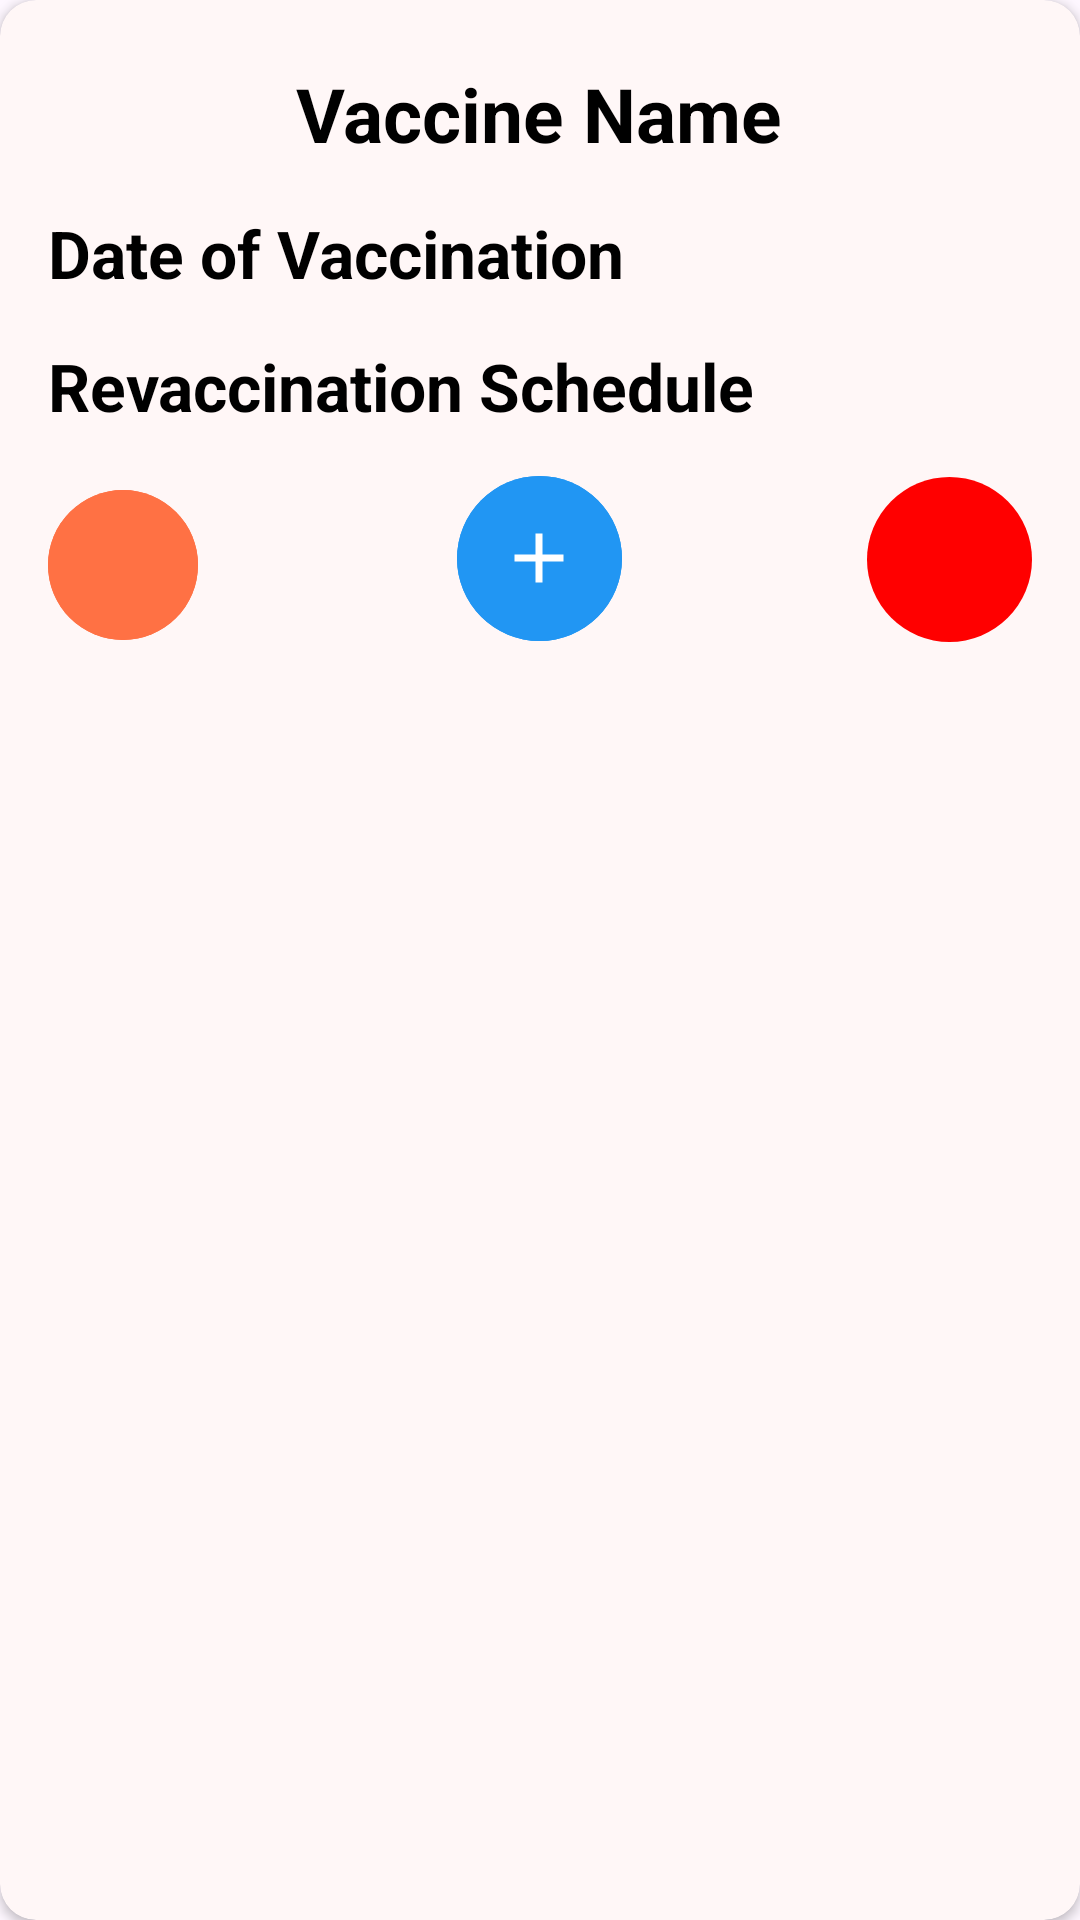

Point at icon controls on the screen. Image size 1080px x 1920px, points as [x,y].
add: [539,558]
